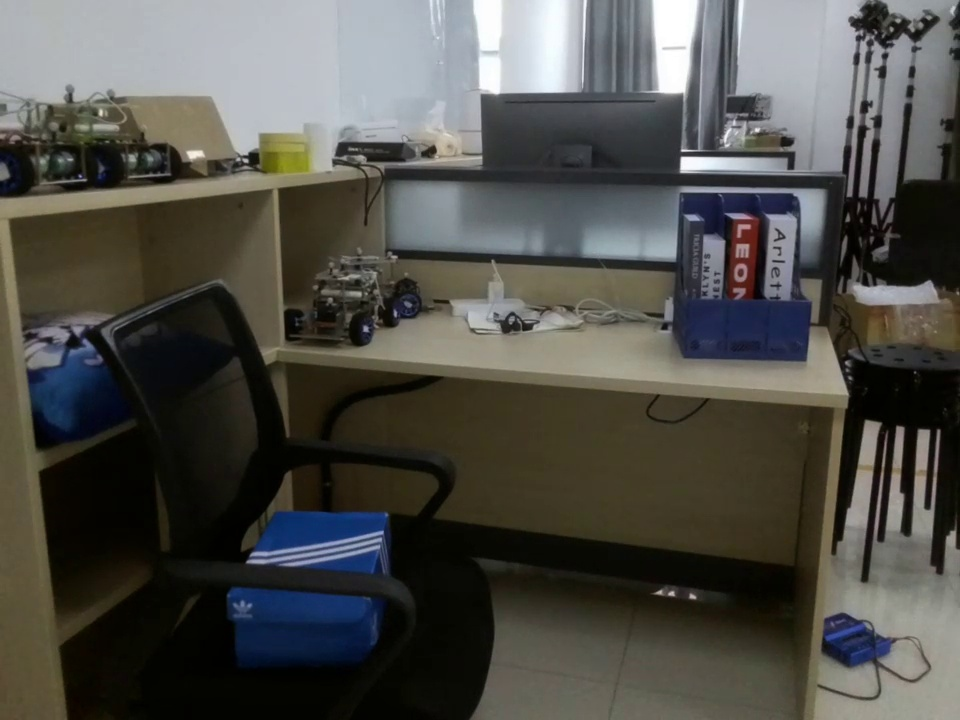files: (669, 187, 815, 374)
